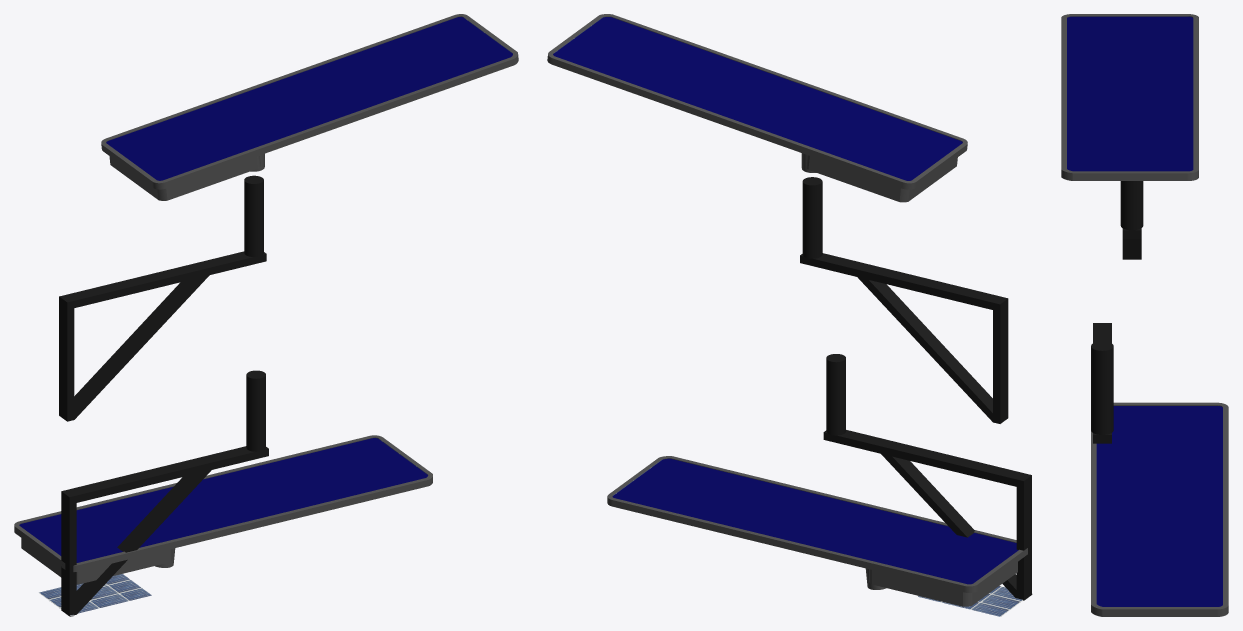
File: NSL_912.gltf
3 views of the same model, side by side, from view 1: azimuth 30°, elevation 25°; view 2: azimuth 150°, elevation 25°; view 3: azimuth 270°, elevation 25° (orthographic). The views are drawn at different scales.
Parts seen in each view (by area): view 1: _C-Lampara (Loose Mesh), Lampara, _C-BaseMetalica (Loose Mesh), BaseMetalica, AdaptadorBase, C-AdaptadorBase, PlacaLed; view 2: _C-Lampara (Loose Mesh), Lampara, _C-BaseMetalica (Loose Mesh), BaseMetalica, C-AdaptadorBase, AdaptadorBase, PlacaLed; view 3: Lampara, _C-Lampara (Loose Mesh), AdaptadorBase, C-AdaptadorBase, _C-BaseMetalica (Loose Mesh), BaseMetalica.
Boxes of the visible parts, x1,y1,x2,y2 form: _C-Lampara (Loose Mesh): (101, 14, 518, 200); Lampara: (14, 435, 432, 584); _C-BaseMetalica (Loose Mesh): (59, 251, 266, 421); BaseMetalica: (61, 446, 268, 616); AdaptadorBase: (246, 370, 265, 451); C-AdaptadorBase: (244, 175, 263, 256); PlacaLed: (38, 574, 151, 613); _C-Lampara (Loose Mesh): (547, 14, 967, 202); Lampara: (607, 456, 1027, 606); _C-BaseMetalica (Loose Mesh): (800, 253, 1008, 423); BaseMetalica: (823, 430, 1031, 600); C-AdaptadorBase: (802, 177, 822, 258); AdaptadorBase: (826, 354, 845, 435); PlacaLed: (918, 586, 1023, 616); Lampara: (1091, 402, 1228, 616); _C-Lampara (Loose Mesh): (1061, 14, 1198, 180); AdaptadorBase: (1091, 341, 1113, 434); C-AdaptadorBase: (1120, 181, 1143, 230); _C-BaseMetalica (Loose Mesh): (1122, 228, 1141, 259); BaseMetalica: (1093, 323, 1111, 443).
Size of the model in its own units: 1.55 by 1.56 by 0.4413.
Materials: 11 (2 with a texture image).
